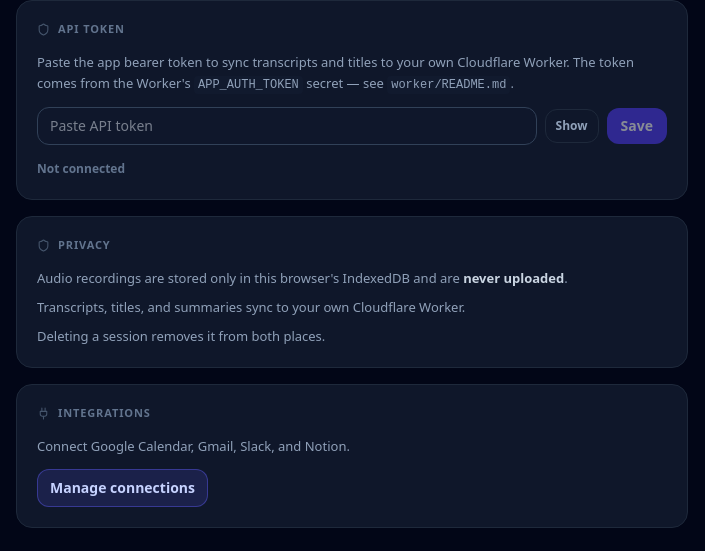
Scenario: SettingsPage token card › saving a valid token shows Connected and drains the outbox
Type "  secret-token  " into the password field labelled "API token" at [287, 126], box [37,107,537,145]
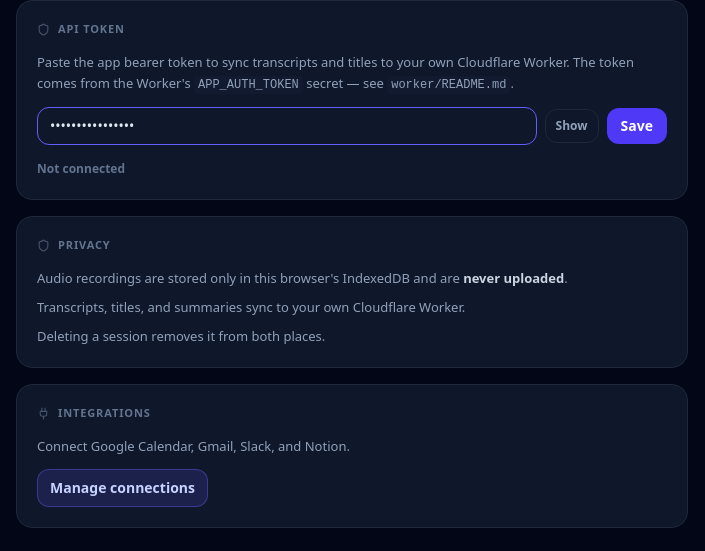
Click the button "Save" at [637, 126], box [607,108,667,144]
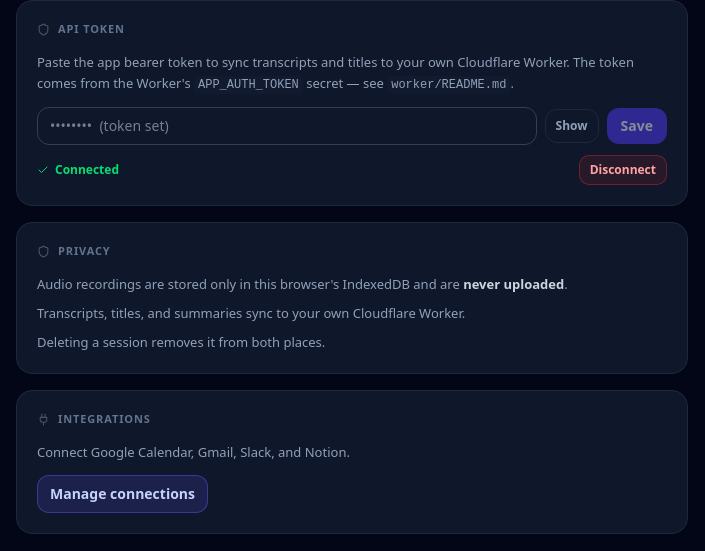
Expected: the element with test id "token-status" reads "Connected", [55,161,119,178]
